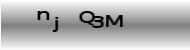3: (92, 14, 105, 29)
M: (104, 13, 125, 28)
Q: (78, 10, 96, 26)
j: (50, 16, 59, 33)
n: (35, 9, 51, 22)
